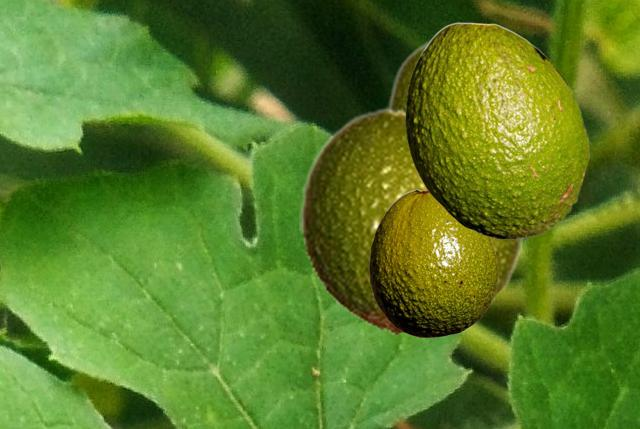avocado: (299, 106, 524, 335), (405, 22, 588, 238), (369, 189, 497, 336), (387, 31, 437, 108)
